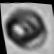correct: (4, 2, 54, 54)
